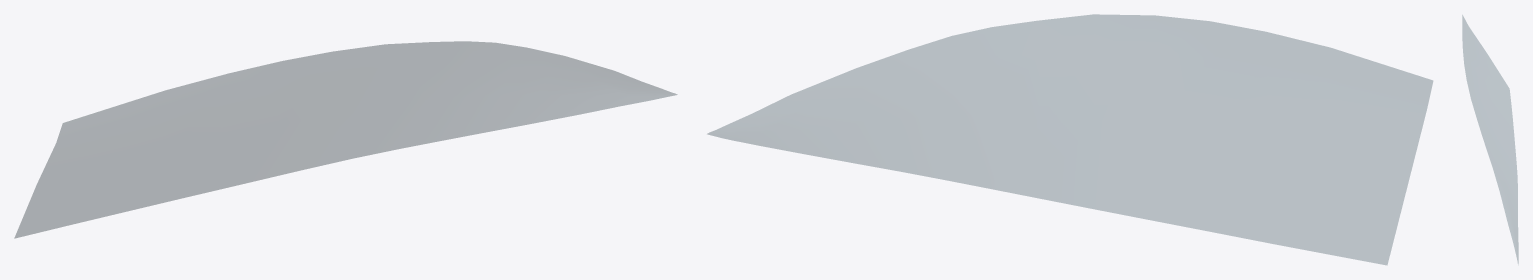
3 views of the same model, side by side, from view 1: azimuth 30°, elevation 25°; view 2: azimuth 150°, elevation 25°; view 3: azimuth 270°, elevation 25° (orthographic). The views are drawn at different scales.
Visible parts, largest first — view 1: SM_MercedesCCC_Door_FL_Glass_Ext2; view 2: SM_MercedesCCC_Door_FL_Glass_Ext2; view 3: SM_MercedesCCC_Door_FL_Glass_Ext2.
Boxes of the visible parts, bbox=[...] form: SM_MercedesCCC_Door_FL_Glass_Ext2: bbox=[14, 41, 677, 238]; SM_MercedesCCC_Door_FL_Glass_Ext2: bbox=[707, 14, 1432, 264]; SM_MercedesCCC_Door_FL_Glass_Ext2: bbox=[1462, 15, 1518, 263].
Size of the model in its own units: 1.17 by 0.3083 by 0.1708.
